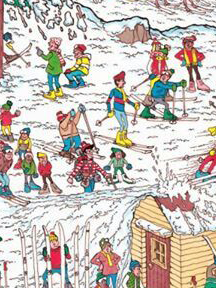waldo: (81, 140, 95, 160)
